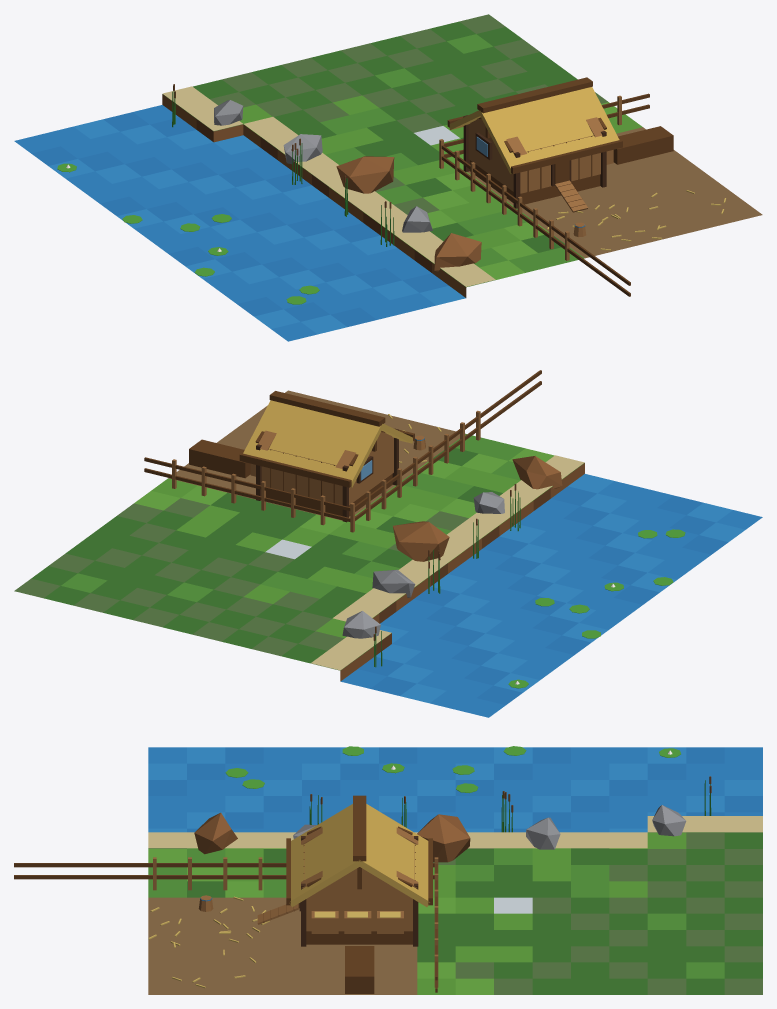
File: chunk_4_3.glb
3 renders of one model, top to bottom at view 1: azimuth 30°, elevation 25°; view 2: azimuth 150°, elevation 25°; view 3: azimuth 270°, elevation 25°, orthographic. The views are drawn at different scales.
Parts seen in each view (by area): view 1: chunk_4_3; view 2: chunk_4_3; view 3: chunk_4_3.
Part boxes in pixels (box(x1,y1,x2,y2)): chunk_4_3: box(14, 14, 762, 341); chunk_4_3: box(14, 370, 762, 717); chunk_4_3: box(14, 746, 762, 994).
Bounding box in the file's own units: 16.53 × 3.29 × 19.5.
